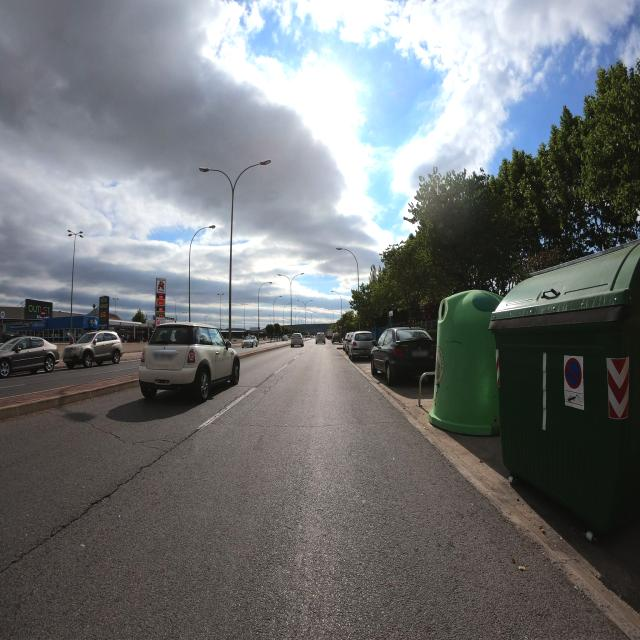car: (138, 320, 240, 402), (371, 325, 436, 386), (0, 335, 60, 379), (62, 330, 123, 369), (349, 331, 374, 362), (290, 332, 304, 348), (344, 331, 354, 353), (242, 336, 258, 348), (316, 332, 326, 345)
